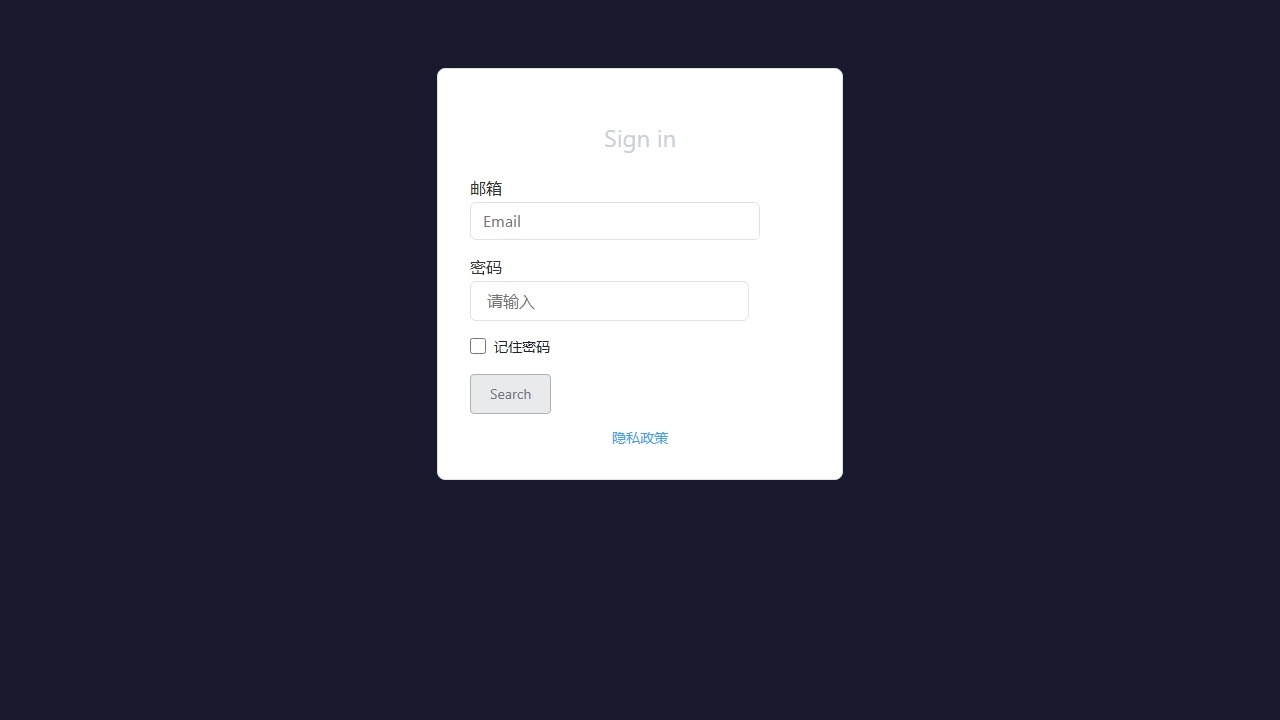button: (470, 374, 551, 414)
checkbox: (470, 338, 486, 354)
icon: (494, 337, 550, 356)
input: (470, 281, 749, 321), (470, 202, 760, 240)
link: (612, 428, 668, 447)
radio: (470, 337, 550, 356)
